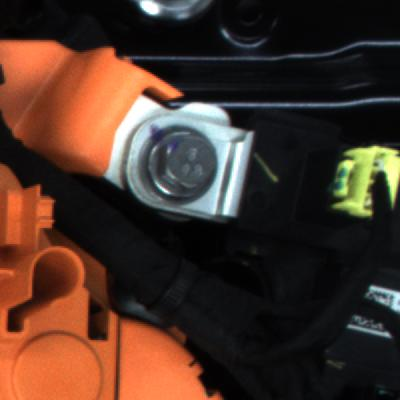nut_b: (133, 120, 225, 214)
